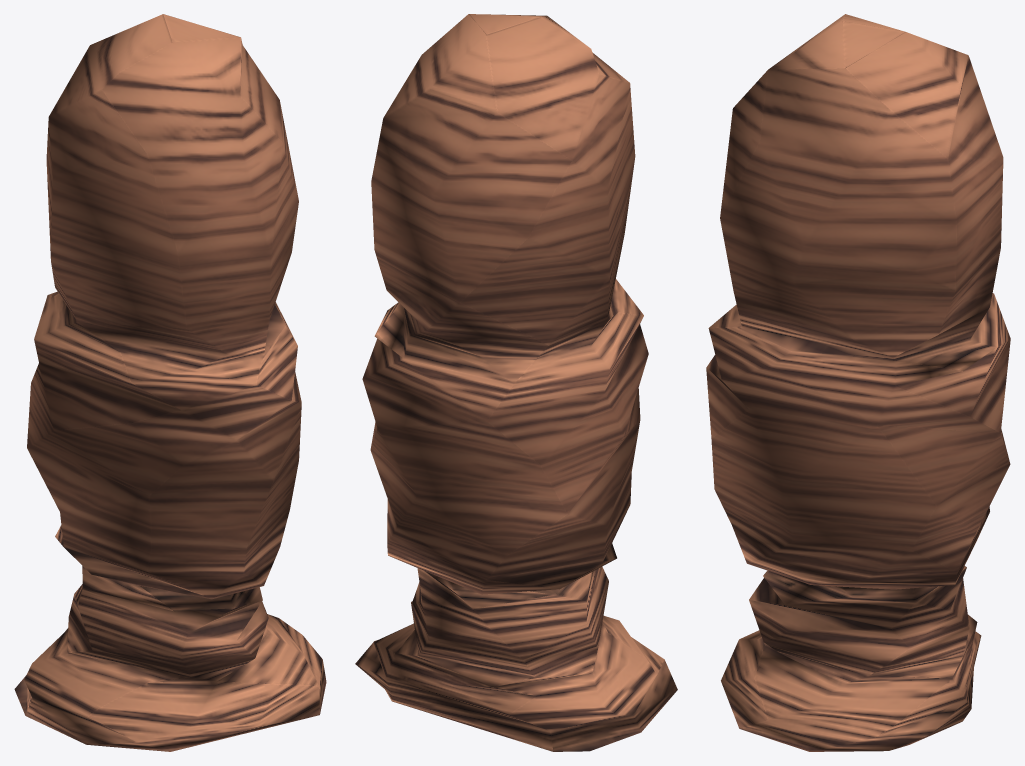
The model's file is Desert_rock_5.fbx.
The picture shows the model from 3 angles, left to right: view 1: azimuth 30°, elevation 25°; view 2: azimuth 150°, elevation 25°; view 3: azimuth 270°, elevation 25°; orthographic projection.
Parts seen in each view (by area): view 1: Desert_rock_5; view 2: Desert_rock_5; view 3: Desert_rock_5.
Boxes of the visible parts, box(x1,y1,x2,y2) form: Desert_rock_5: box(14, 14, 326, 751); Desert_rock_5: box(355, 14, 677, 751); Desert_rock_5: box(706, 14, 1010, 751).
Size of the model in its own units: 1.6 by 3.72 by 1.55.
1 material, 1 textured.
